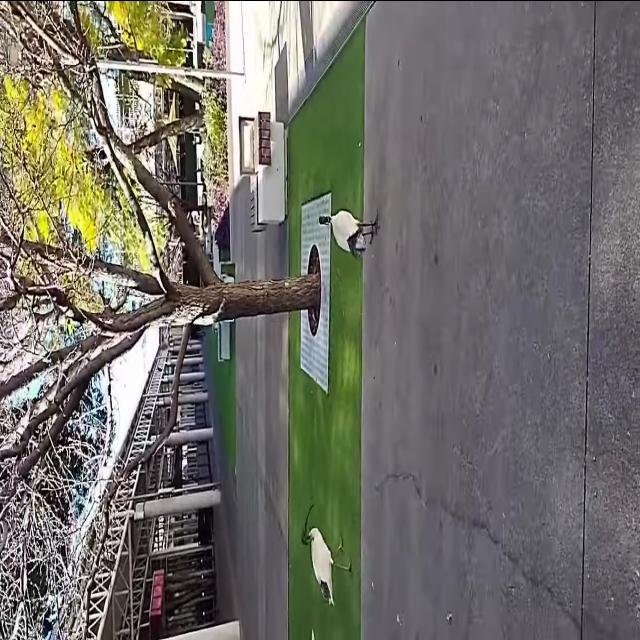Birds-Ibis: (296, 500, 354, 610), (315, 201, 384, 259)
